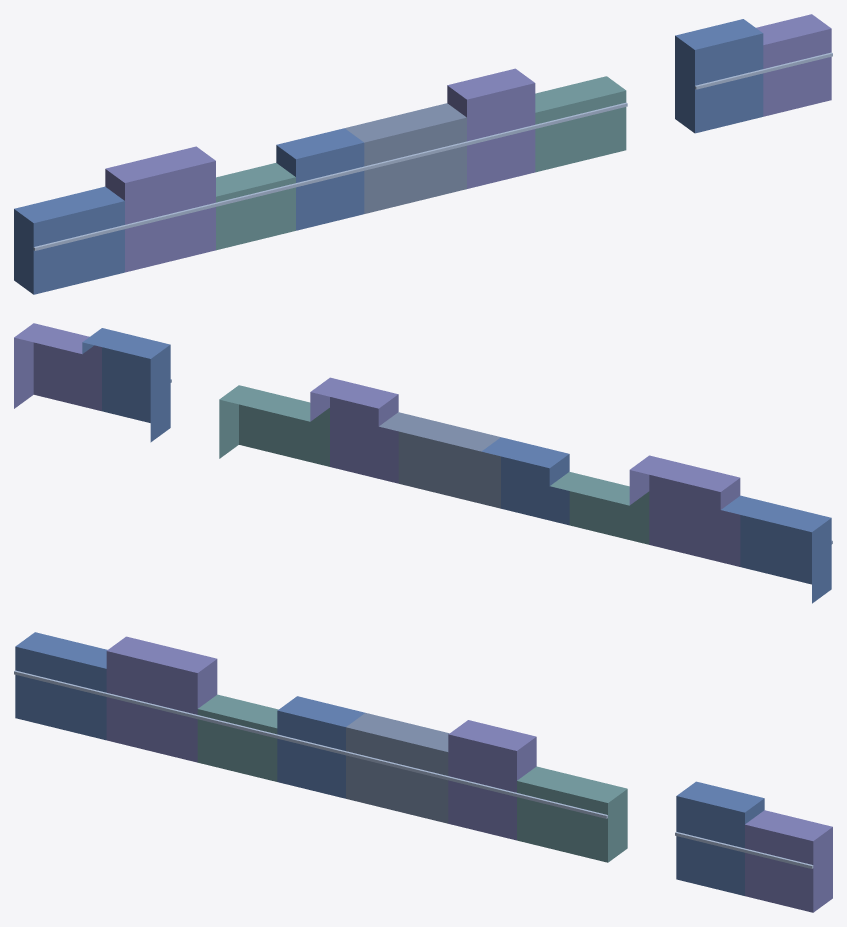
Rendered from ARCH_KarsiCephe_Yer.obj.
3 renders of one model, top to bottom at view 1: azimuth 30°, elevation 25°; view 2: azimuth 150°, elevation 25°; view 3: azimuth 330°, elevation 25°, orthographic.
Parts seen in each view (by area): view 1: Blok_02, Blok_01, Blok_05, Blok_08, Blok_06, Blok_07, Blok_04, Blok_09, Blok_03; view 2: Blok_02, Blok_05, Blok_01, Blok_06, Blok_07, Blok_08, Blok_09, Blok_04, Blok_03; view 3: Blok_02, Blok_05, Blok_07, Blok_01, Blok_06, Blok_09, Blok_08, Blok_04, Blok_03.
Part boxes in pixels (x1=…): Blok_02: x1=105, y1=146, x2=217, y2=272; Blok_01: x1=14, y1=186, x2=126, y2=294; Blok_05: x1=345, y1=103, x2=468, y2=213; Blok_08: x1=675, y1=19, x2=764, y2=133; Blok_06: x1=447, y1=68, x2=536, y2=188; Blok_07: x1=535, y1=76, x2=627, y2=172; Blok_04: x1=276, y1=128, x2=365, y2=230; Blok_09: x1=756, y1=14, x2=832, y2=116; Blok_03: x1=216, y1=163, x2=297, y2=250; Blok_02: x1=629, y1=455, x2=740, y2=566; Blok_05: x1=379, y1=412, x2=500, y2=508; Blok_01: x1=721, y1=495, x2=832, y2=603; Blok_06: x1=310, y1=377, x2=398, y2=483; Blok_07: x1=219, y1=385, x2=329, y2=466; Blok_08: x1=82, y1=328, x2=171, y2=442; Blok_09: x1=14, y1=323, x2=101, y2=411; Blok_04: x1=482, y1=437, x2=569, y2=525; Blok_03: x1=550, y1=472, x2=649, y2=544; Blok_02: x1=105, y1=636, x2=217, y2=762; Blok_05: x1=344, y1=713, x2=449, y2=823; Blok_07: x1=515, y1=766, x2=627, y2=862; Blok_01: x1=14, y1=632, x2=107, y2=740; Blok_06: x1=447, y1=720, x2=536, y2=840; Blok_09: x1=743, y1=810, x2=832, y2=912; Blok_08: x1=675, y1=781, x2=764, y2=895; Blok_04: x1=276, y1=696, x2=365, y2=798; Blok_03: x1=196, y1=694, x2=278, y2=781.
Size of the model in its own units: 70 by 7.5 by 3.2.
